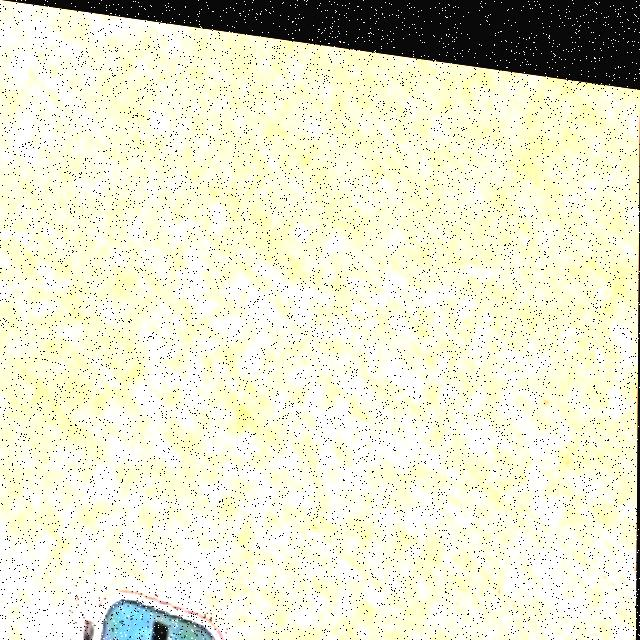adapter: (70, 577, 229, 640)
